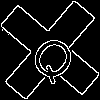Q: (25, 25, 86, 88)
